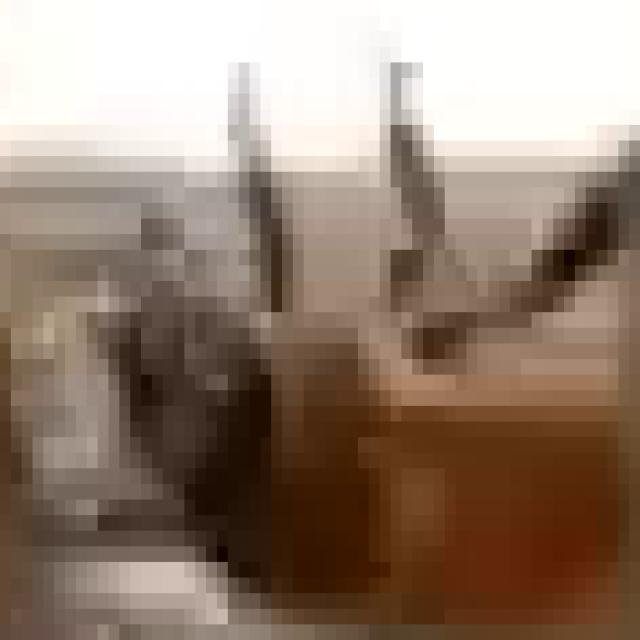honeybee: (114, 104, 629, 598)
